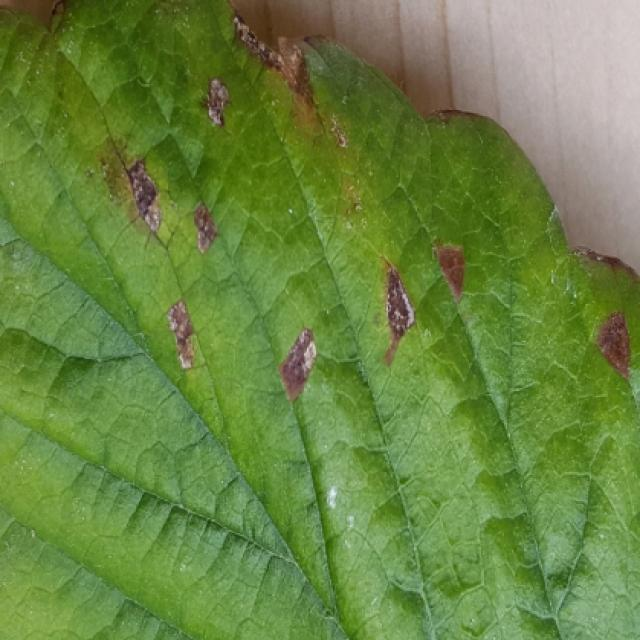Angular Leafspot: (43, 0, 640, 406)
